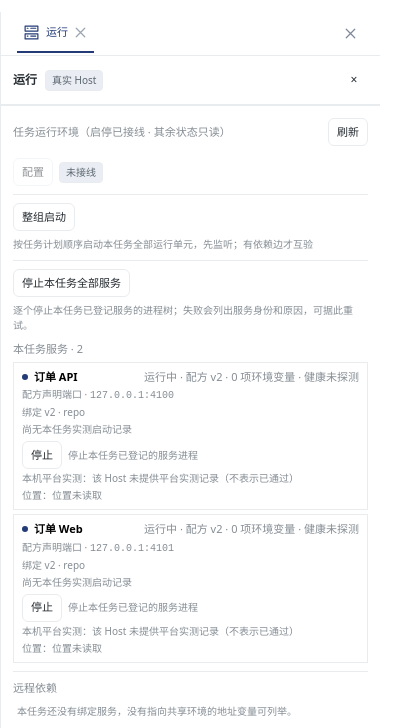
Test: 任务级停止本任务全部服务 › shows the failed service receipt instead of reporting all services stopped
The width and height of the screenshot is (397, 728).
Expected: the text "本任务服务 · 2" is shown, x1=13 y1=341 x2=83 y2=356
Click the button "停止本任务全部服务" at (72, 283), box x1=13 y1=269 x2=130 y2=297
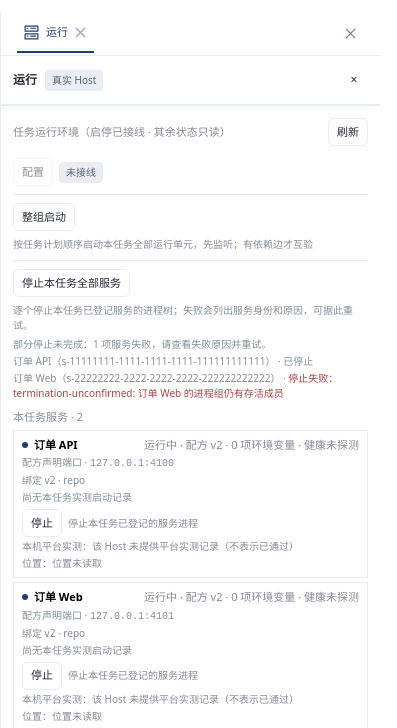
Expected: the element with test id "dock-stop-all-receipt" shows "订单 API", x1=13 y1=354 x2=51 y2=368
Expected: the element with test id "dock-stop-all-receipt" shows "已停止", x1=283 y1=354 x2=313 y2=368
Expected: the element with test id "dock-stop-all-receipt" shows "订单 Web", x1=13 y1=371 x2=56 y2=385
